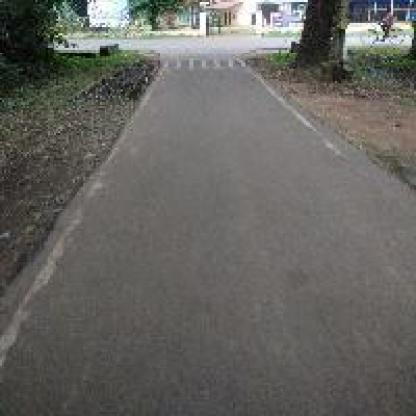Speed Bump: (162, 54, 250, 73)
